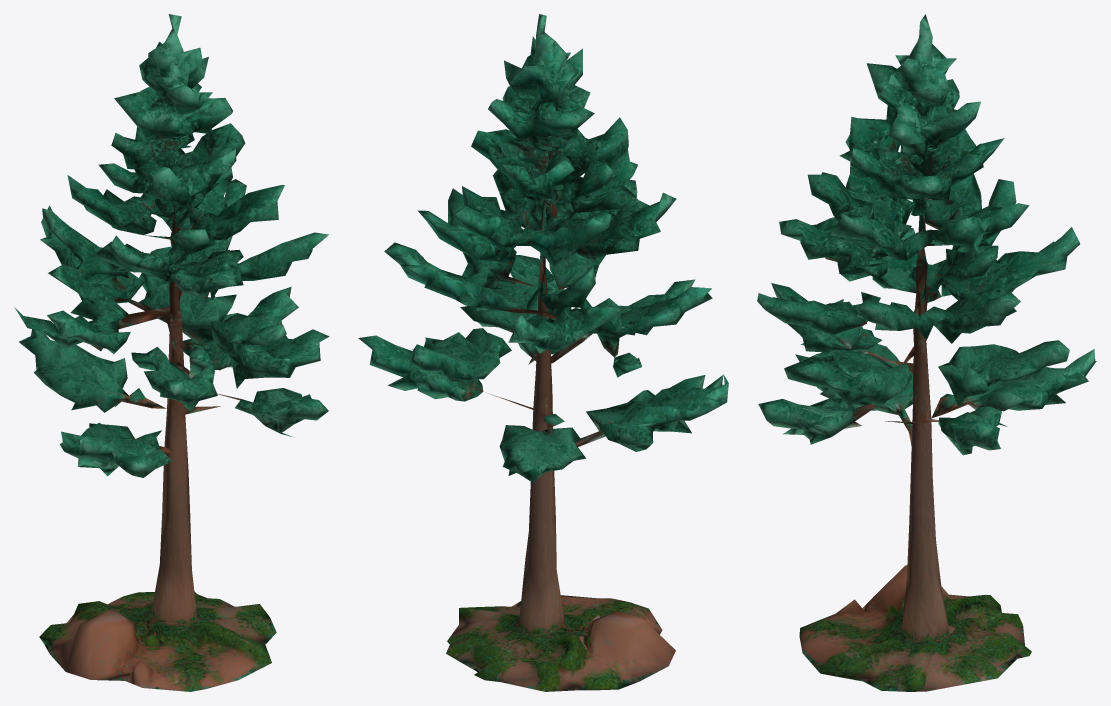
File: pine.glb
3 views of the same model, side by side, from view 1: azimuth 30°, elevation 25°; view 2: azimuth 150°, elevation 25°; view 3: azimuth 270°, elevation 25° (orthographic).
Parts seen in each view (by area): view 1: Mesh1.0; view 2: Mesh1.0; view 3: Mesh1.0.
Part boxes in pixels (bbox=[...]): Mesh1.0: bbox=[14, 14, 329, 691]; Mesh1.0: bbox=[358, 14, 728, 691]; Mesh1.0: bbox=[757, 14, 1096, 691].
Size of the model in its own units: 0.948 by 1.89 by 0.9175.
1 material, 1 textured.
